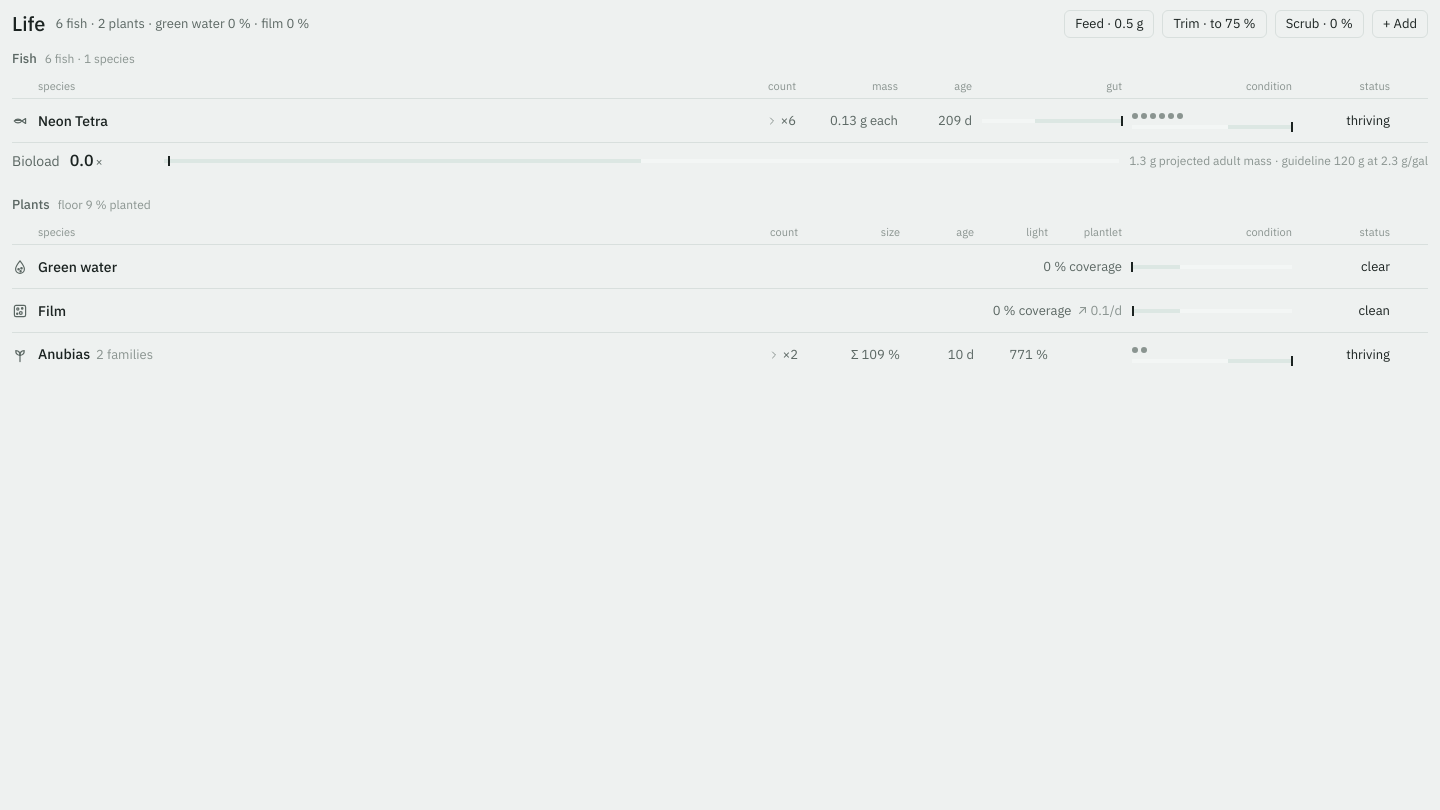
Test: LifeSection › opens a species row onto the individuals under it
The width and height of the screenshot is (1440, 810).
Click the button named "Neon Tetra — 6, thriving" at (720,120), box [12, 99, 1428, 142]
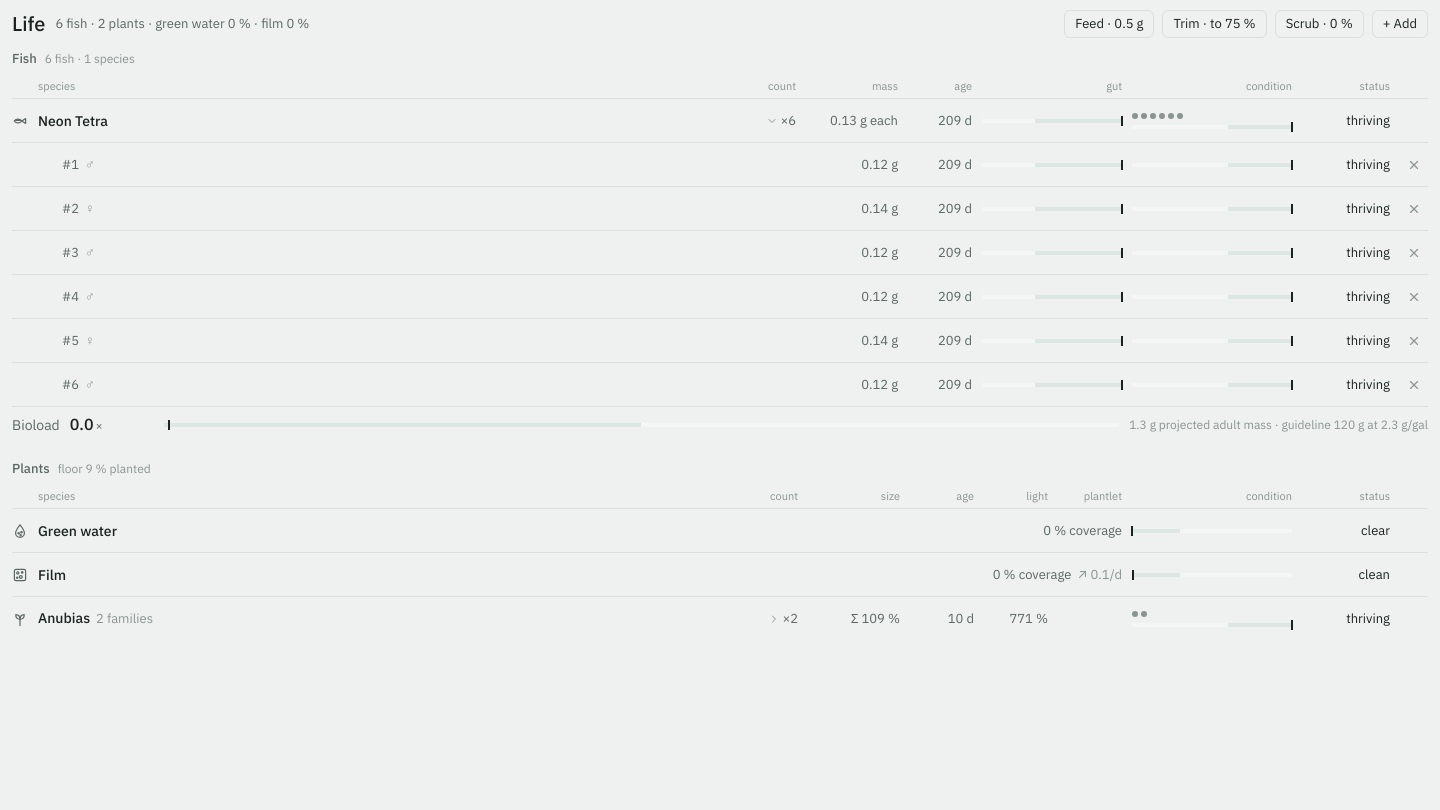
Now the number of buttons named "Remove Neon Tetra" is 6, box [1402, 152, 1426, 176]; [1402, 196, 1426, 220]; [1402, 240, 1426, 264]; [1402, 284, 1426, 308]; [1402, 328, 1426, 352]; [1402, 372, 1426, 396]
